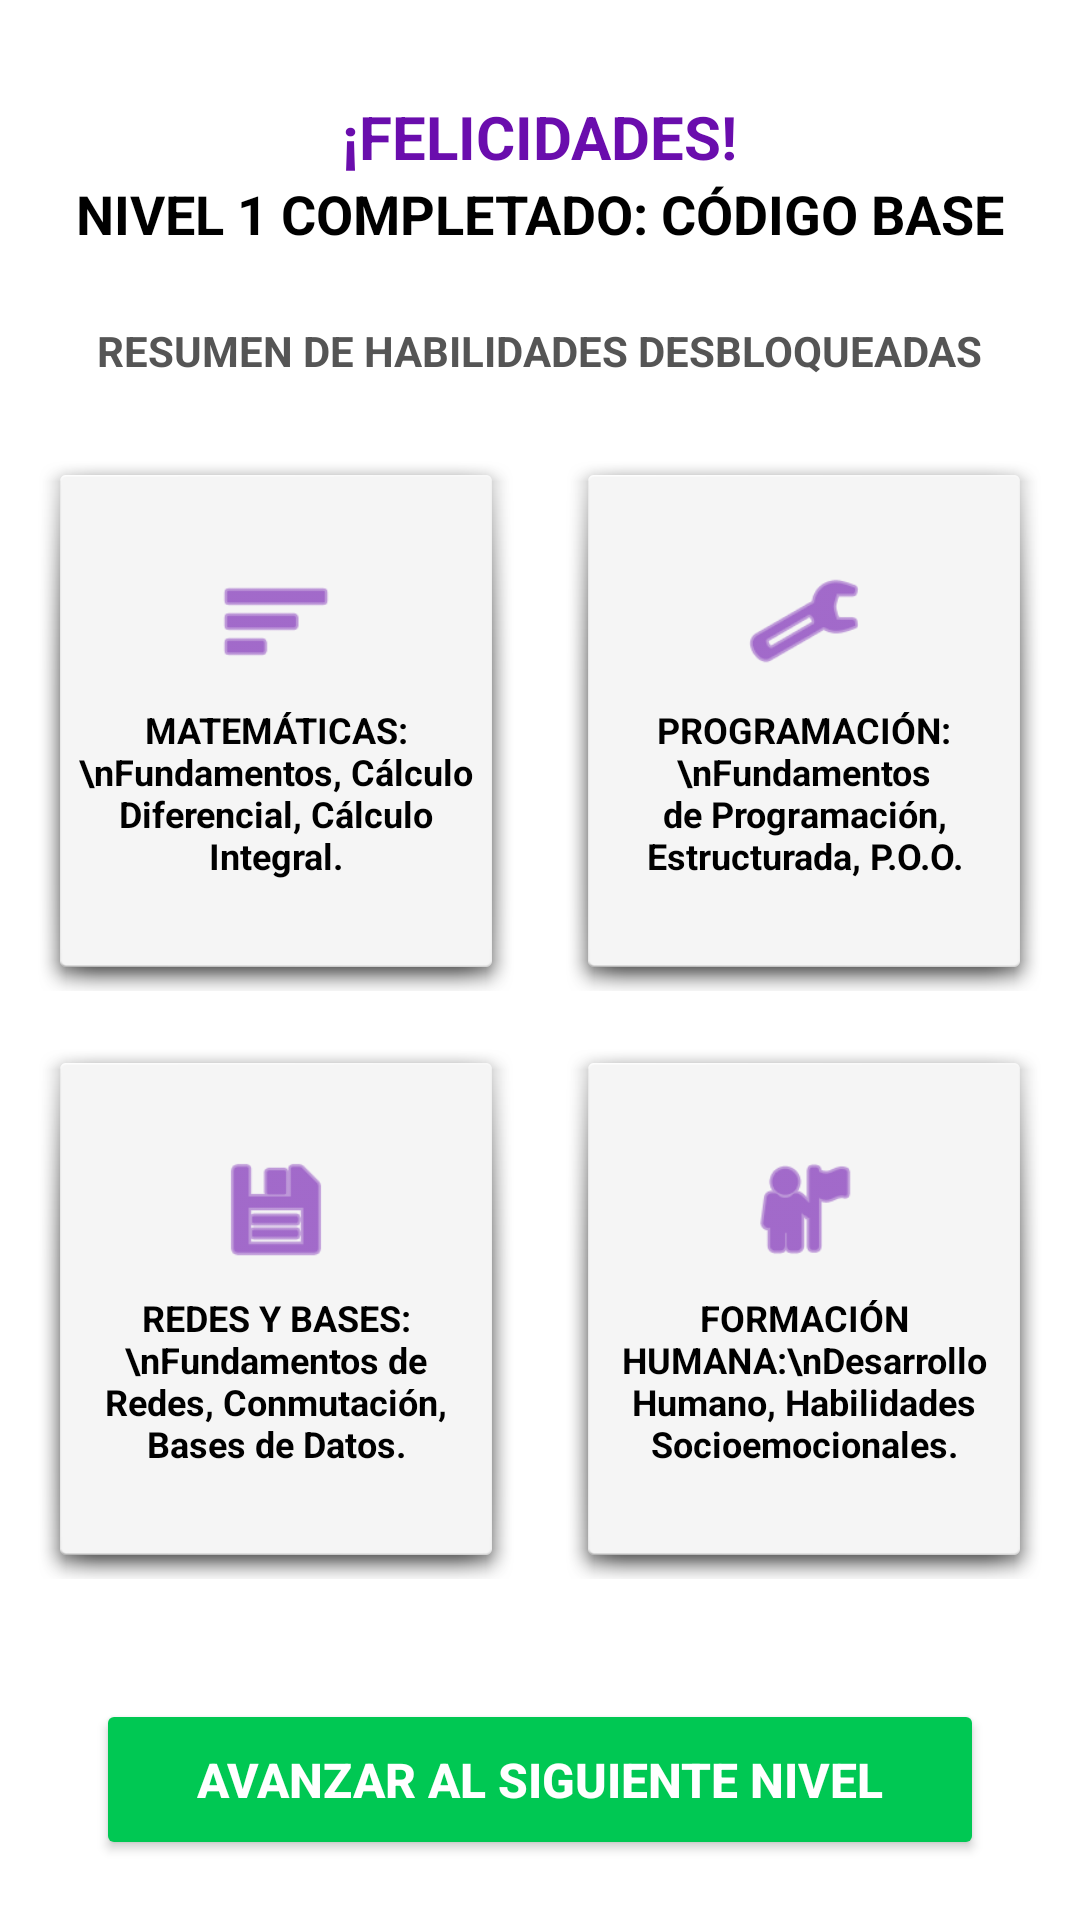

Named icons in this screenshot (1080w x 1920h) and their centers, (x=x, y=y):
manage: (x=804, y=621)
save: (x=276, y=1209)
sort by size: (x=276, y=621)
